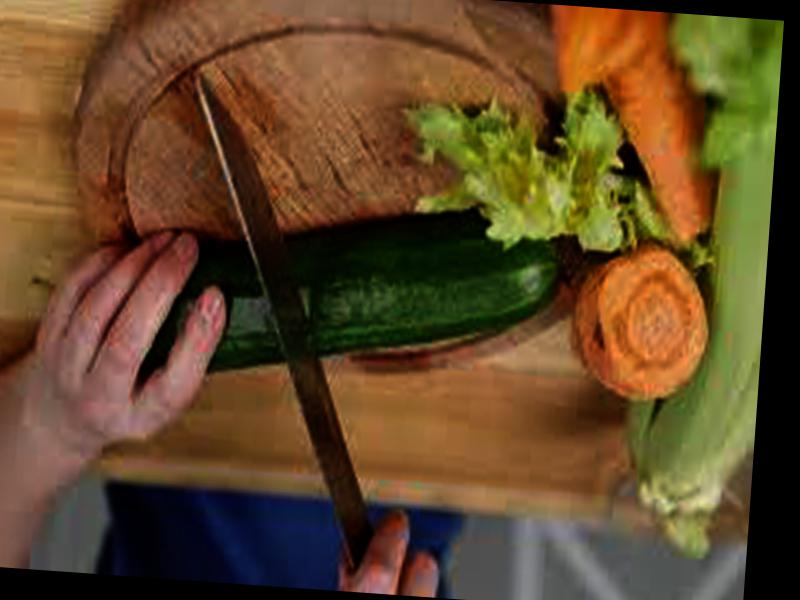Cucumber: (143, 198, 566, 397)
